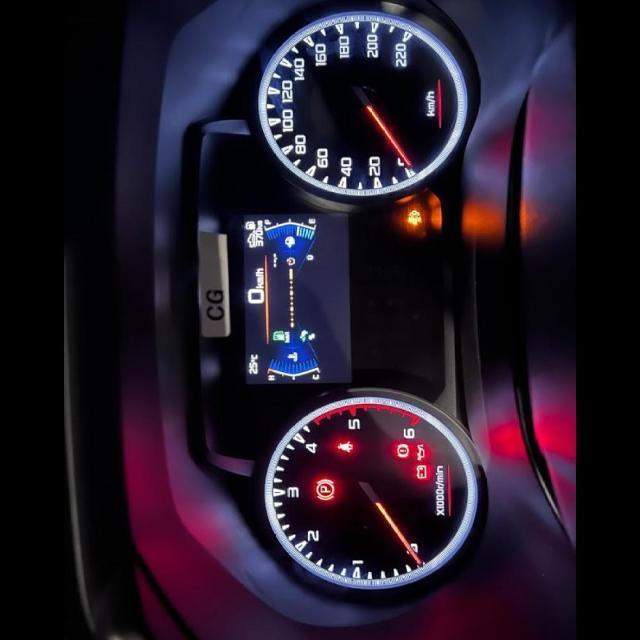Seat Belt: (336, 440, 354, 452)
